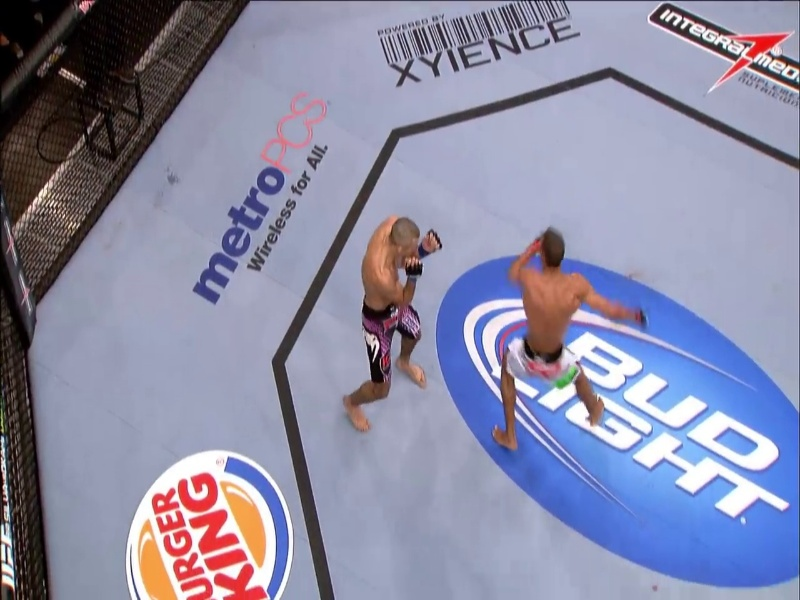fighter: (482, 222, 665, 472), (338, 211, 441, 441)
